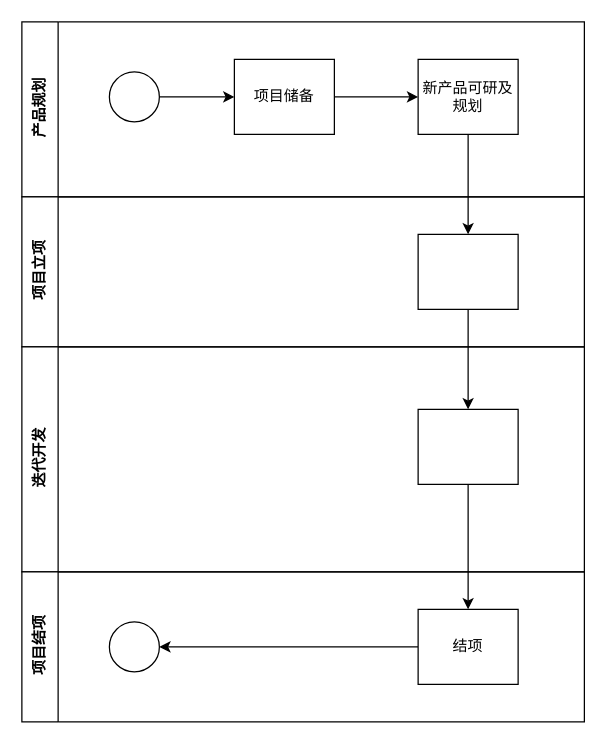
This 606x744 diagram has some shape labels left out. Here are the shapes that lost their labels. From the top down, the centre of each, then its label:
the point at 133,96: 开始
the point at 467,271: 立项
the point at 467,446: 研发过程
the point at 133,646: 结束
